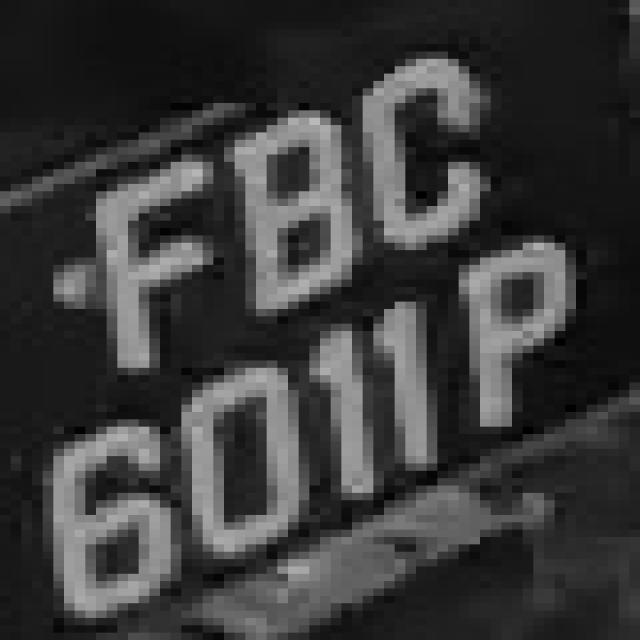0: (149, 368, 299, 559)
1: (341, 287, 448, 500), (288, 302, 384, 522)
6: (21, 427, 192, 610)
B: (202, 110, 362, 280)
C: (342, 66, 502, 258)
F: (64, 177, 224, 360)
P: (448, 250, 587, 427)
